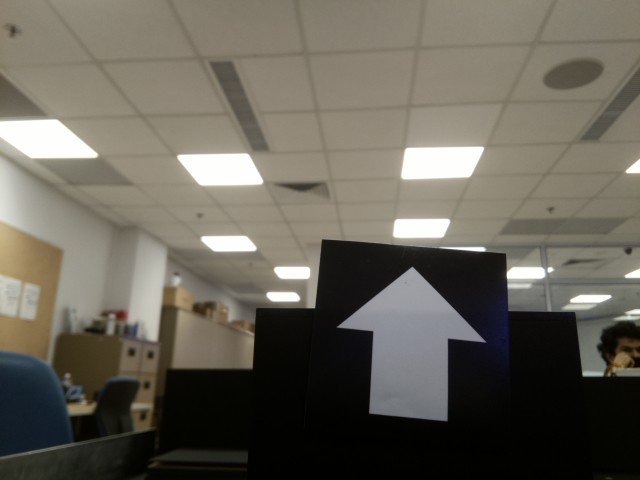up: (335, 247, 486, 435)
